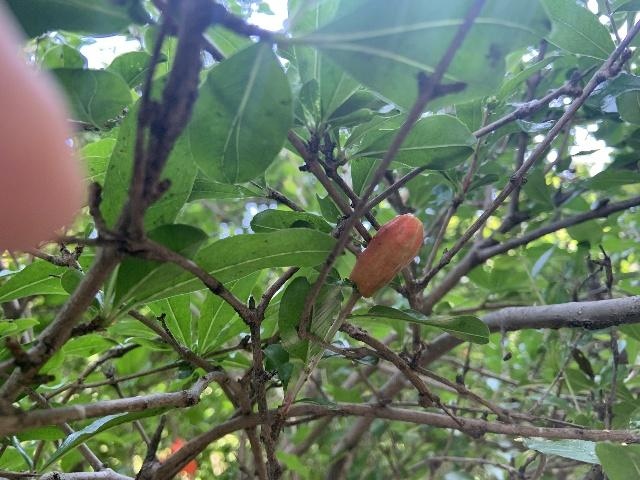bud: (350, 211, 423, 298)
